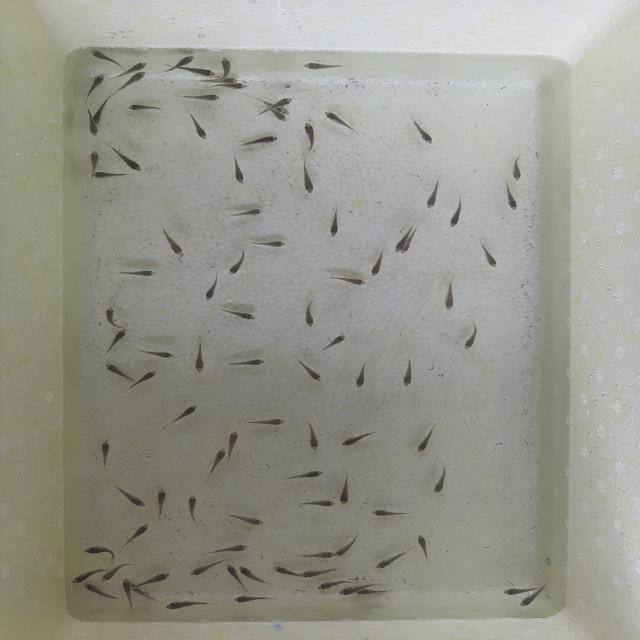fingerling: (153, 224, 187, 257), (320, 106, 358, 135), (120, 519, 154, 551), (406, 112, 436, 148), (231, 132, 283, 152), (373, 546, 413, 572), (293, 354, 326, 385), (166, 401, 202, 428), (182, 109, 211, 142), (113, 483, 147, 511), (220, 353, 270, 372), (292, 159, 318, 195), (413, 419, 439, 455), (220, 508, 266, 528), (222, 152, 248, 187), (457, 320, 484, 353), (428, 464, 454, 498), (190, 334, 211, 376), (335, 529, 364, 559), (159, 596, 212, 612), (212, 304, 258, 322), (445, 197, 470, 230), (227, 591, 278, 607), (204, 541, 252, 558), (421, 175, 443, 212), (323, 272, 368, 290), (397, 355, 420, 390), (338, 430, 378, 450), (102, 330, 130, 358), (80, 542, 119, 562), (298, 120, 318, 158), (206, 445, 229, 478), (224, 248, 249, 278), (111, 265, 161, 280), (325, 205, 347, 239), (297, 296, 320, 328), (86, 47, 121, 68), (439, 278, 460, 313), (122, 99, 167, 115), (245, 414, 290, 430), (283, 468, 328, 484), (201, 271, 223, 303), (303, 418, 323, 453), (139, 568, 174, 588), (319, 331, 348, 355), (178, 90, 224, 105), (350, 360, 373, 390), (300, 59, 348, 73), (184, 490, 202, 527), (478, 240, 500, 270), (224, 206, 268, 221), (95, 436, 115, 469), (137, 346, 178, 362), (300, 564, 340, 580), (500, 182, 519, 215), (366, 250, 388, 278), (84, 71, 105, 100), (337, 473, 354, 508), (153, 486, 171, 519), (414, 532, 432, 565), (186, 561, 218, 579), (99, 302, 121, 328), (245, 236, 292, 248), (102, 361, 130, 381), (291, 496, 337, 508), (293, 548, 336, 560), (119, 574, 133, 610), (510, 152, 526, 183), (270, 563, 298, 578), (366, 506, 408, 516), (137, 367, 160, 385), (312, 578, 341, 592), (127, 155, 146, 175), (210, 81, 248, 91), (87, 170, 128, 179), (226, 427, 244, 447), (218, 55, 235, 76), (333, 584, 360, 597), (239, 563, 258, 581), (188, 66, 216, 78), (222, 564, 240, 582), (519, 592, 539, 608), (99, 567, 117, 584), (88, 147, 101, 170), (497, 586, 524, 597), (68, 570, 85, 586), (177, 52, 196, 66), (128, 59, 148, 72), (80, 581, 100, 594), (87, 119, 100, 138), (392, 238, 406, 254), (132, 70, 147, 84), (278, 95, 295, 106), (274, 113, 290, 124)
